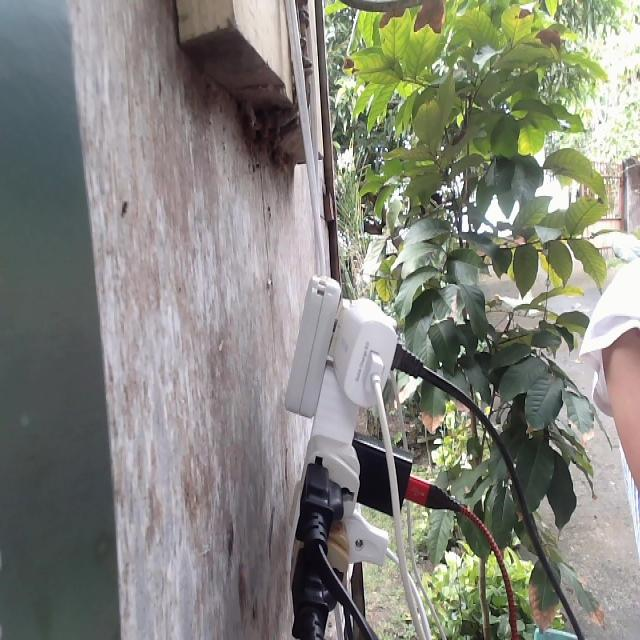-: (284, 273, 428, 635)
